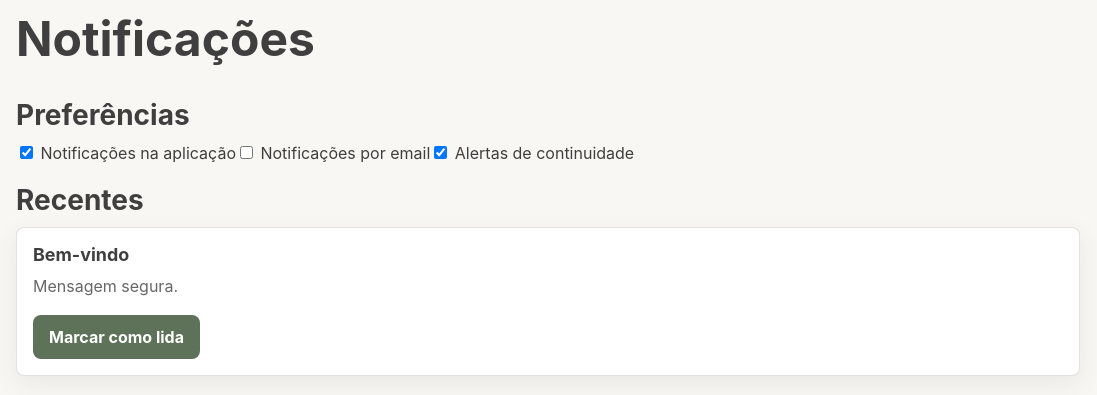
Test: NotificationsPage › usa a resposta autoritativa e marca apenas a linha ocupada
The image size is (1097, 395).
Click the checkbox labelled "Notificações por email" at (246, 152), box [240,146,253,158]
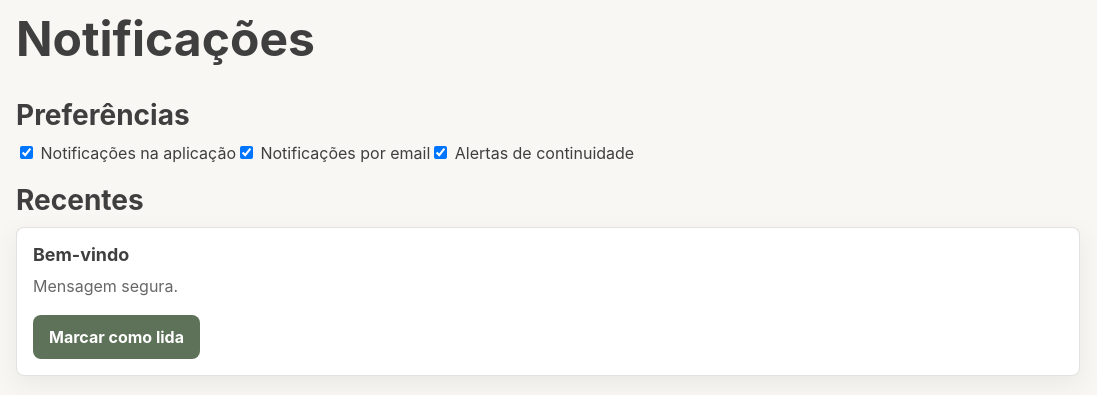
Check: the checkbox labelled "Notificações por email" is checked, box [240,146,253,158]
Click the button "Marcar como lida" at (116, 338), box [33,316,200,360]
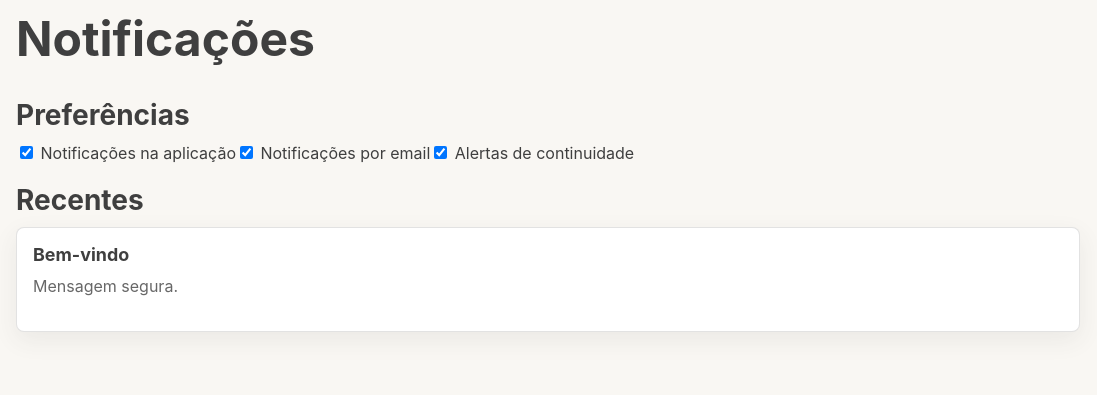
Check: the button "Marcar como lida" is gone
